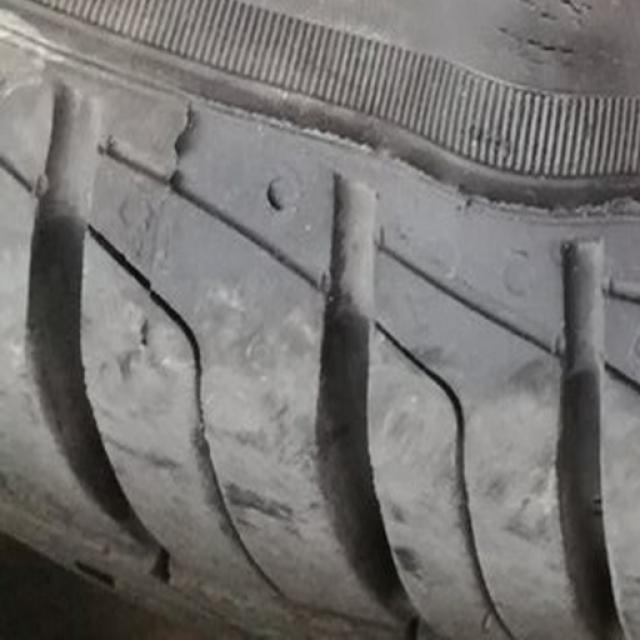Bulge: (408, 28, 638, 234)
